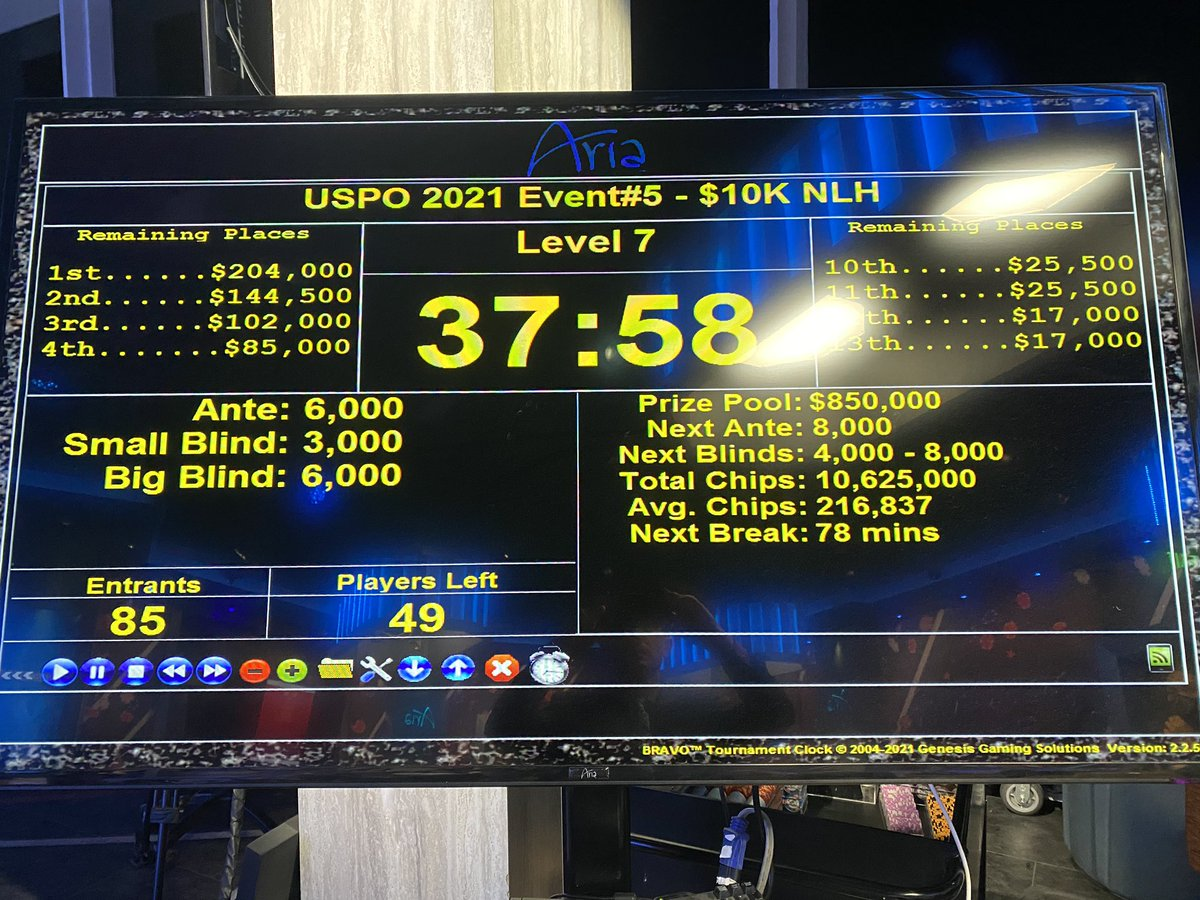PlayersLeft: (266, 562, 582, 642)
Remaining: (805, 215, 1154, 388), (31, 221, 362, 398)
TournamentClock: (25, 178, 1183, 634)
